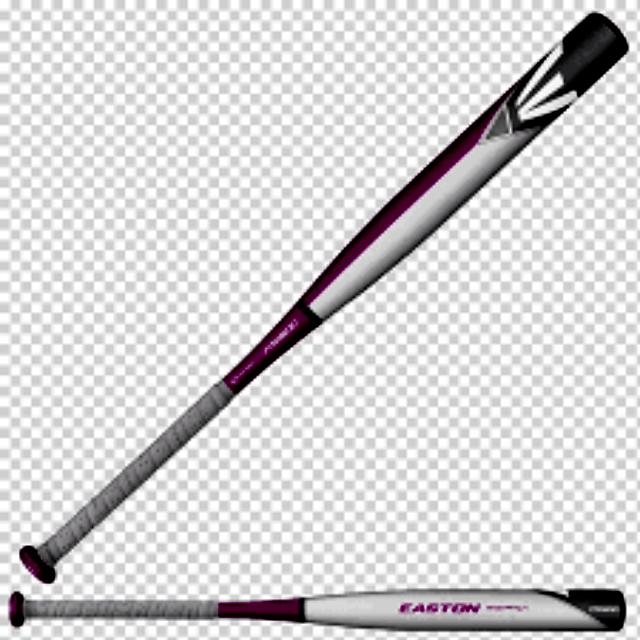baseball bat: (17, 11, 628, 582)
